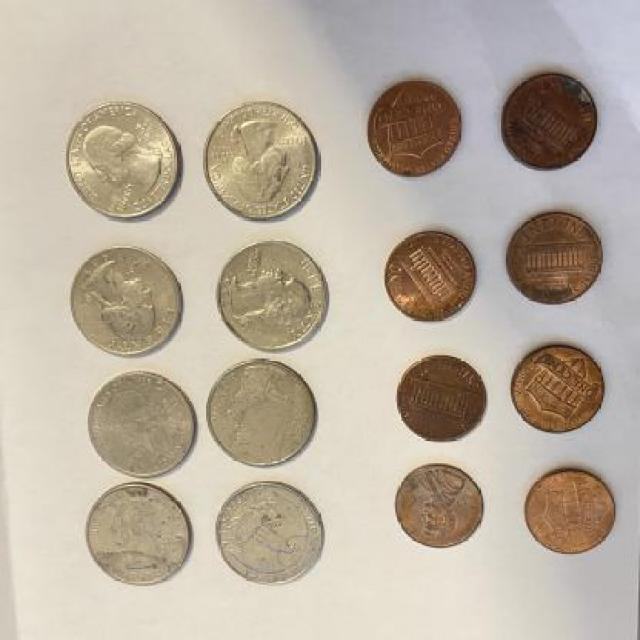Penny: (498, 69, 597, 174), (364, 78, 462, 180), (503, 212, 603, 308), (510, 348, 608, 440), (394, 352, 486, 445), (383, 234, 477, 323), (523, 468, 614, 558), (394, 463, 486, 551)
Quarter: (198, 100, 322, 225), (64, 100, 184, 223), (214, 238, 331, 356), (69, 250, 186, 358), (88, 369, 198, 482), (208, 360, 318, 471), (217, 480, 325, 588), (83, 483, 191, 588)
